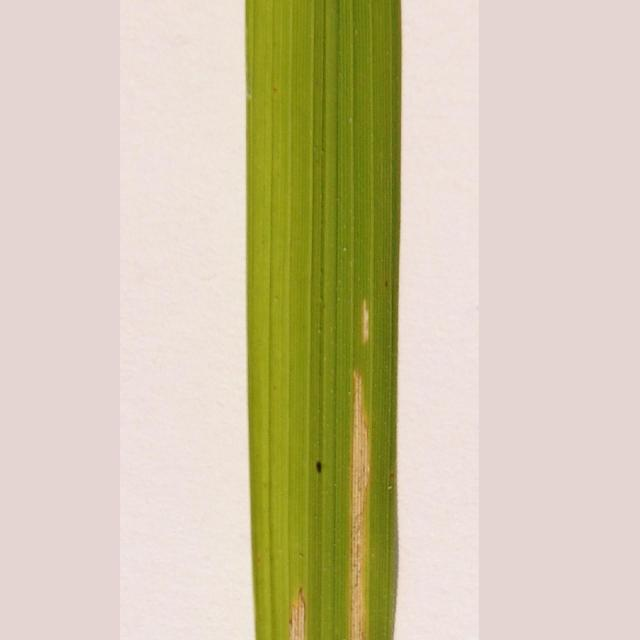Bacterial leaf blight: (329, 361, 399, 640), (276, 581, 322, 640), (348, 281, 384, 349)
